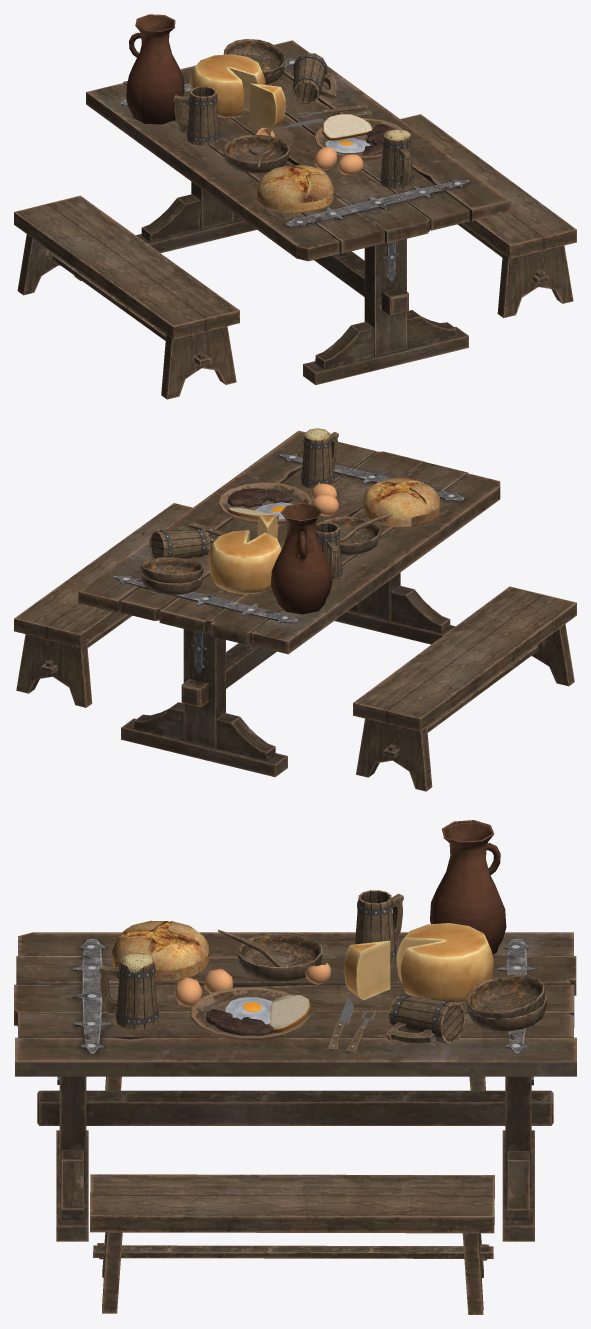
The model's file is feast.glb.
The picture shows the model from 3 angles, top to bottom: view 1: azimuth 30°, elevation 25°; view 2: azimuth 150°, elevation 25°; view 3: azimuth 270°, elevation 25°; orthographic projection. The views are drawn at different scales.
Parts seen in each view (by area): view 1: table, bench, mug, jug, cheese, bread, bowl, bowls, bread_slice, eggs, plate, cutlery (+2 smaller); view 2: table, bench, jug, mug, cheese, bread, bowls, plate, bowl, beef, eggs; view 3: table, bench, mug, cheese, jug, bread, bowls, bowl, plate, bread_slice, eggs, beef (+3 smaller).
Part boxes in pixels (x1,y1,x2,y2): table: (86, 40, 511, 385); bench: (14, 114, 576, 399); mug: (173, 53, 413, 189); jug: (126, 14, 184, 124); cheese: (190, 54, 285, 129); bread: (257, 165, 333, 213); bowl: (223, 134, 289, 173); bowls: (223, 39, 285, 84); bread_slice: (322, 114, 372, 140); eggs: (314, 146, 363, 175); plate: (314, 118, 403, 160); cutlery: (283, 104, 371, 128); table: (78, 430, 500, 777); bench: (14, 503, 576, 791); jug: (271, 502, 332, 614); mug: (150, 428, 342, 581); cheese: (208, 515, 281, 594); bread: (363, 477, 439, 526); bowls: (141, 557, 203, 594); plate: (218, 482, 312, 524); bowl: (319, 516, 380, 555); beef: (227, 488, 292, 507); eggs: (311, 483, 338, 516); table: (14, 932, 576, 1241); bench: (90, 1076, 494, 1314); mug: (98, 890, 465, 1043); cheese: (344, 923, 493, 1003); jug: (430, 820, 506, 954); bread: (112, 920, 208, 982); bowls: (466, 974, 546, 1031); bowl: (238, 932, 322, 981); plate: (190, 987, 309, 1041); bread_slice: (270, 995, 311, 1032); eggs: (174, 969, 232, 1006); beef: (206, 1009, 273, 1035).
Bounding box in the file's own units: 4.28 × 2.45 × 3.98.
Materials: 14 (14 with a texture image).
